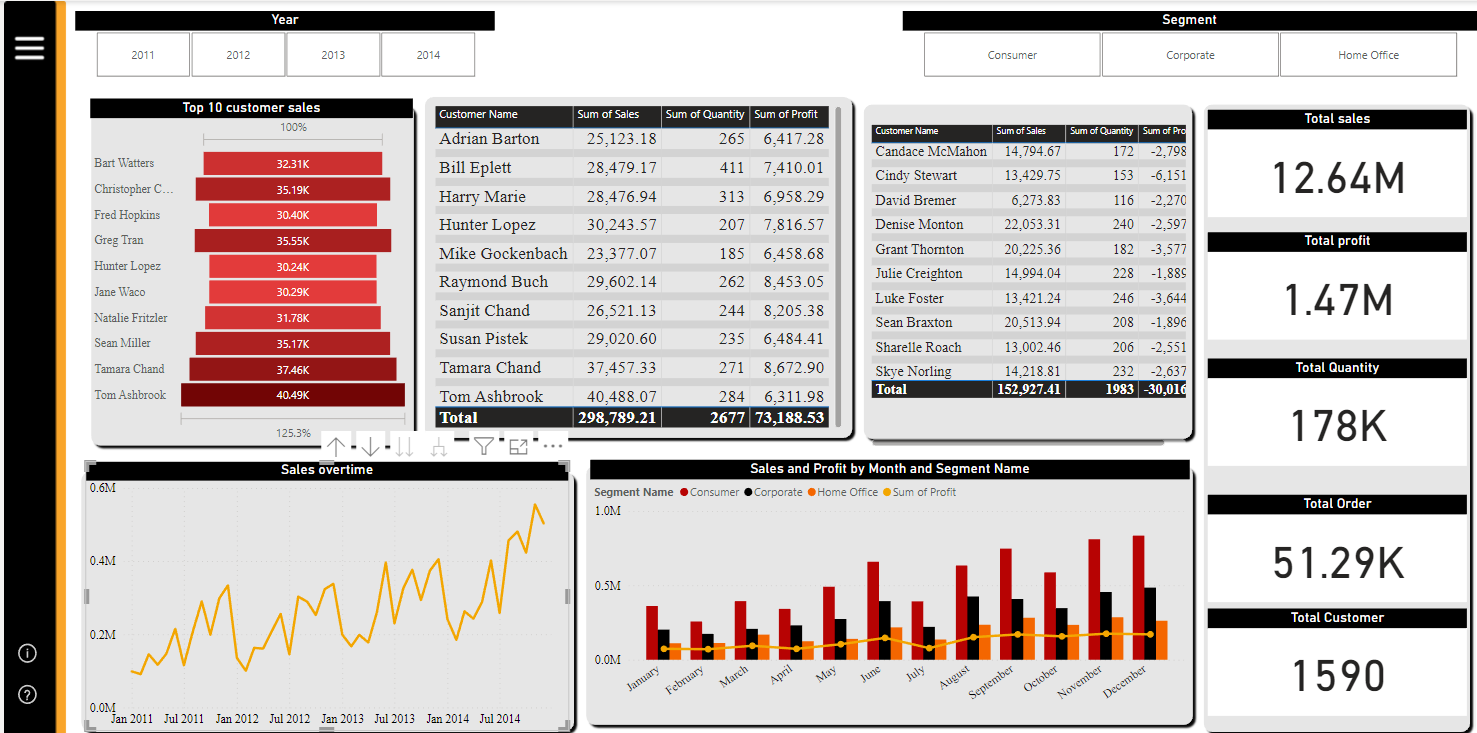

The dashboard page shown, as its layout file describes it:
{"tool":"powerbi","page":{"name":"Customer","canvas":[1800,900],"ordinal":2},"visuals":[{"type":"actionButton","box":[427.1,0,1372.9,900],"z":0,"group":"g2"},{"type":"shape","box":[98.6,118.6,408.6,431.4],"z":0},{"type":"actionButton","title":"Qs","box":[11.7,822,33.2,50.9],"z":0,"group":"g1"},{"type":"shape","box":[1044.3,118.6,415.7,422.9],"z":250},{"type":"shape","box":[704.3,561.4,755.7,331.4],"z":500},{"type":"shape","box":[74.3,0,352.9,900],"z":1000,"group":"g2"},{"type":"shape","box":[507.1,110,537.1,431.4],"z":1000},{"type":"actionButton","title":"Info","box":[11.7,771.1,33.2,50.9],"z":1000,"group":"g1"},{"type":"actionButton","title":"Menu Button","box":[7.1,27.1,47.1,59.5],"z":2000,"group":"g1"},{"type":"actionButton","title":"Product","box":[13.2,394,388.2,61.7],"z":2000,"group":"g2"},{"type":"shape","box":[87.1,568.6,617.1,331.4],"z":2000},{"type":"shape","box":[1460,118.6,340,781.4],"z":3000},{"type":"actionButton","title":"Location","box":[13.2,225.6,388.2,61.7],"z":3000,"group":"g2"},{"type":"card","title":"Total sales","fields":{"Values":["Sum(FOrder.Sales)"]},"box":[1471.4,132.9,317.1,131.4],"z":4000},{"type":"actionButton","title":"Customer","box":[11.4,309.8,388.2,61.7],"z":4000,"group":"g2"},{"type":"actionButton","title":"Sales","box":[13.2,141.4,388.2,61.7],"z":5000,"group":"g2"},{"type":"card","title":"Total profit","fields":{"Values":["Sum(FOrder.Profit)"]},"box":[1471.4,282.9,317.1,131.4],"z":5000},{"type":"card","title":"Total Quantity","fields":{"Values":["Sum(FOrder.Quantity)"]},"box":[1471.4,437.1,317.1,131.4],"z":6000},{"type":"card","title":"Total Order","fields":{"Values":["CountNonNull(FOrder.Row ID)"]},"box":[1471.4,602.9,317.1,131.4],"z":7000},{"type":"card","title":"Total Customer","fields":{"Values":["Count(FOrder.Customer ID)"]},"box":[1471.4,742.9,317.1,131.4],"z":8000},{"type":"slicer","title":"Year","fields":{"Values":["DimDate.Order Date.Variation.Date Hierarchy.Year"]},"box":[87.1,12.9,512.9,87.1],"z":9000},{"type":"slicer","title":"Segment","fields":{"Values":["DimSegment.Segment Name"]},"box":[1098.6,12.9,701.4,87.1],"z":10000},{"type":"lineChart","title":"Sales overtime","fields":{"Y":["Sum(FOrder.Sales)"],"Category":["DimDate.Order Date.Variation.Date Hierarchy.Year","DimDate.Order Date.Variation.Date Hierarchy.Quarter","DimDate.Order Date.Variation.Date Hierarchy.Month"]},"box":[99.4,561.6,591.3,331.4],"z":11000},{"type":"lineClusteredColumnComboChart","title":"Sales and Profit by Month and Segment Name","fields":{"Category":["DimDate.Order Date.Variation.Date Hierarchy.Month"],"Y":["Sum(FOrder.Sales)"],"Series":["DimSegment.Segment Name"],"Y2":["Sum(FOrder.Profit)"]},"box":[717.1,561.4,732.9,315.7],"z":13000},{"type":"funnel","title":"Top 10 customer sales","fields":{"Category":["DimCustomer.Customer Name"],"Y":["Sum(FOrder.Sales)"]},"box":[105.7,118.6,394.3,422.9],"z":14000},{"type":"tableEx","fields":{"Values":["DimCustomer.Customer Name","Sum(FOrder.Sales)","Sum(FOrder.Quantity)","Sum(FOrder.Profit)"]},"box":[521.4,124.3,508.6,402.9],"z":15000},{"type":"tableEx","fields":{"Values":["DimCustomer.Customer Name","Sum(FOrder.Sales)","Sum(FOrder.Quantity)","Sum(FOrder.Profit)"]},"box":[1054.3,147.1,395.7,402.9],"z":17000},{"type":"group","id":"g1","title":"Menu Bar","box":[7.1,27.1,47.1,845.7],"z":18000},{"type":"group","id":"g2","title":"page","box":[11.4,0,1788.6,900],"z":19000}]}

Visuals, with their boxes on the page's 1800x900 design canvas (x1, y1, x2, y2). These are canvas units, not pixel positions in the 1477x733 screenshot, which may show the page scaled, cropped or inside an application window:
actionButton: BBox(427, 0, 1800, 900)
shape: BBox(99, 119, 507, 550)
"Qs" actionButton: BBox(12, 822, 45, 873)
shape: BBox(1044, 119, 1460, 542)
shape: BBox(704, 561, 1460, 893)
shape: BBox(74, 0, 427, 900)
shape: BBox(507, 110, 1044, 541)
"Info" actionButton: BBox(12, 771, 45, 822)
"Menu Button" actionButton: BBox(7, 27, 54, 87)
"Product" actionButton: BBox(13, 394, 401, 456)
shape: BBox(87, 569, 704, 900)
shape: BBox(1460, 119, 1800, 900)
"Location" actionButton: BBox(13, 226, 401, 287)
"Total sales" card: BBox(1471, 133, 1788, 264)
"Customer" actionButton: BBox(11, 310, 400, 372)
"Sales" actionButton: BBox(13, 141, 401, 203)
"Total profit" card: BBox(1471, 283, 1788, 414)
"Total Quantity" card: BBox(1471, 437, 1788, 568)
"Total Order" card: BBox(1471, 603, 1788, 734)
"Total Customer" card: BBox(1471, 743, 1788, 874)
"Year" slicer: BBox(87, 13, 600, 100)
"Segment" slicer: BBox(1099, 13, 1800, 100)
"Sales overtime" lineChart: BBox(99, 562, 691, 893)
"Sales and Profit by Month and Segment Name" lineClusteredColumnComboChart: BBox(717, 561, 1450, 877)
"Top 10 customer sales" funnel: BBox(106, 119, 500, 542)
tableEx - DimCustomer.Customer Name x Sum(FOrder.Sales): BBox(521, 124, 1030, 527)
tableEx - DimCustomer.Customer Name x Sum(FOrder.Sales): BBox(1054, 147, 1450, 550)
"Menu Bar" group: BBox(7, 27, 54, 873)
"page" group: BBox(11, 0, 1800, 900)
